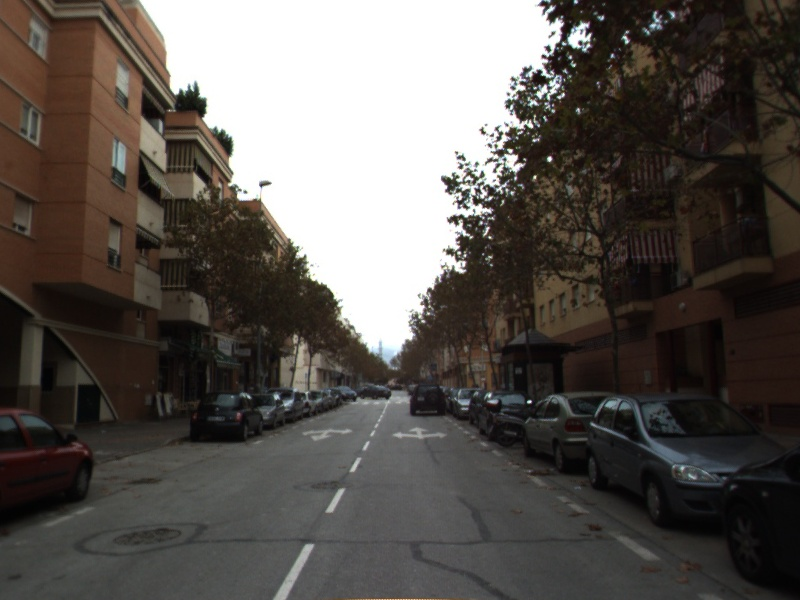STRAIGHT_LEFT_RIGHT: (390, 425, 450, 441)
